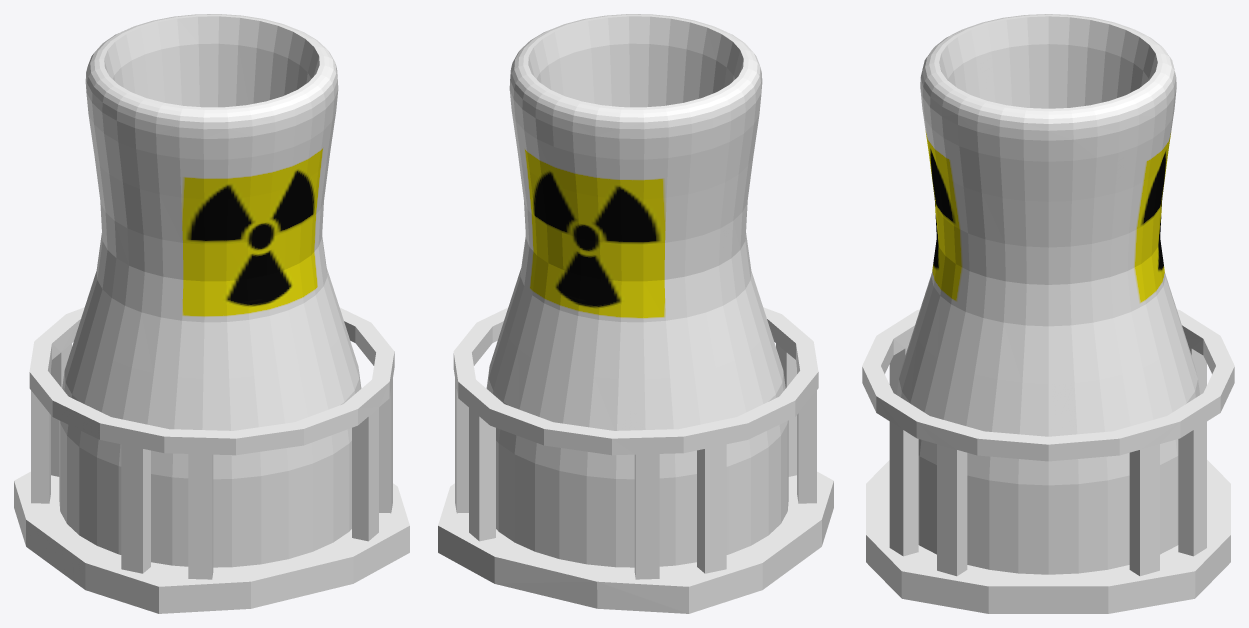
File: powerplant_no_draco.glb
3 views of the same model, side by side, from view 1: azimuth 30°, elevation 25°; view 2: azimuth 150°, elevation 25°; view 3: azimuth 270°, elevation 25° (orthographic).
Visible parts, largest first — view 1: Cube.038; view 2: Cube.038; view 3: Cube.038.
Part boxes in pixels (x1=…): Cube.038: x1=14, y1=14, x2=409, y2=613; Cube.038: x1=438, y1=14, x2=833, y2=613; Cube.038: x1=862, y1=14, x2=1234, y2=613.
Bounding box in the file's own units: 2.46 × 3.46 × 2.46.
Materials: 1 (1 with a texture image).
